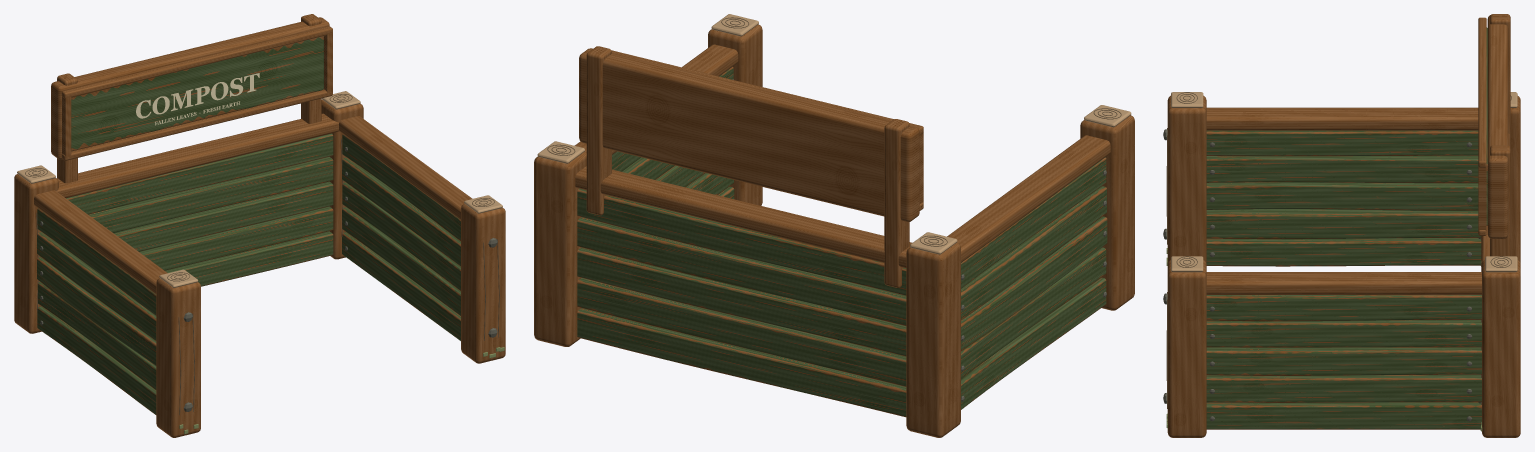
The model's file is compost-bay.glb.
3 renders of one model, left to right at view 1: azimuth 30°, elevation 25°; view 2: azimuth 150°, elevation 25°; view 3: azimuth 270°, elevation 25°, orthographic. The views are drawn at different scales.
Parts seen in each view (by area): view 1: Sage paint - chipped timber, Honey oak - rubbed grain, Sun worn end grain, Aged cream lettering, Deep timber checks; view 2: Honey oak - rubbed grain, Sage paint - chipped timber, Sun worn end grain, Deep timber checks; view 3: Sage paint - chipped timber, Honey oak - rubbed grain, Sun worn end grain, Deep timber checks, Oxidized forged iron.
Part boxes in pixels (<box>): Sage paint - chipped timber: <box>37,36,460,414</box>; Honey oak - rubbed grain: <box>14,14,505,437</box>; Sun worn end grain: <box>17,91,502,287</box>; Aged cream lettering: <box>136,73,259,125</box>; Deep timber checks: <box>25,94,499,415</box>; Honey oak - rubbed grain: <box>534,24,1134,437</box>; Sage paint - chipped timber: <box>577,67,1107,417</box>; Sun worn end grain: <box>537,14,1131,254</box>; Deep timber checks: <box>547,17,1121,246</box>; Sage paint - chipped timber: <box>1206,27,1487,429</box>; Honey oak - rubbed grain: <box>1167,14,1520,437</box>; Sun worn end grain: <box>1171,92,1517,272</box>; Deep timber checks: <box>1166,92,1511,408</box>; Oxidized forged iron: <box>1163,129,1480,421</box>.
Bounding box in the file's own units: 3.74 × 2.58 × 3.13.
7 materials, 2 textured.
